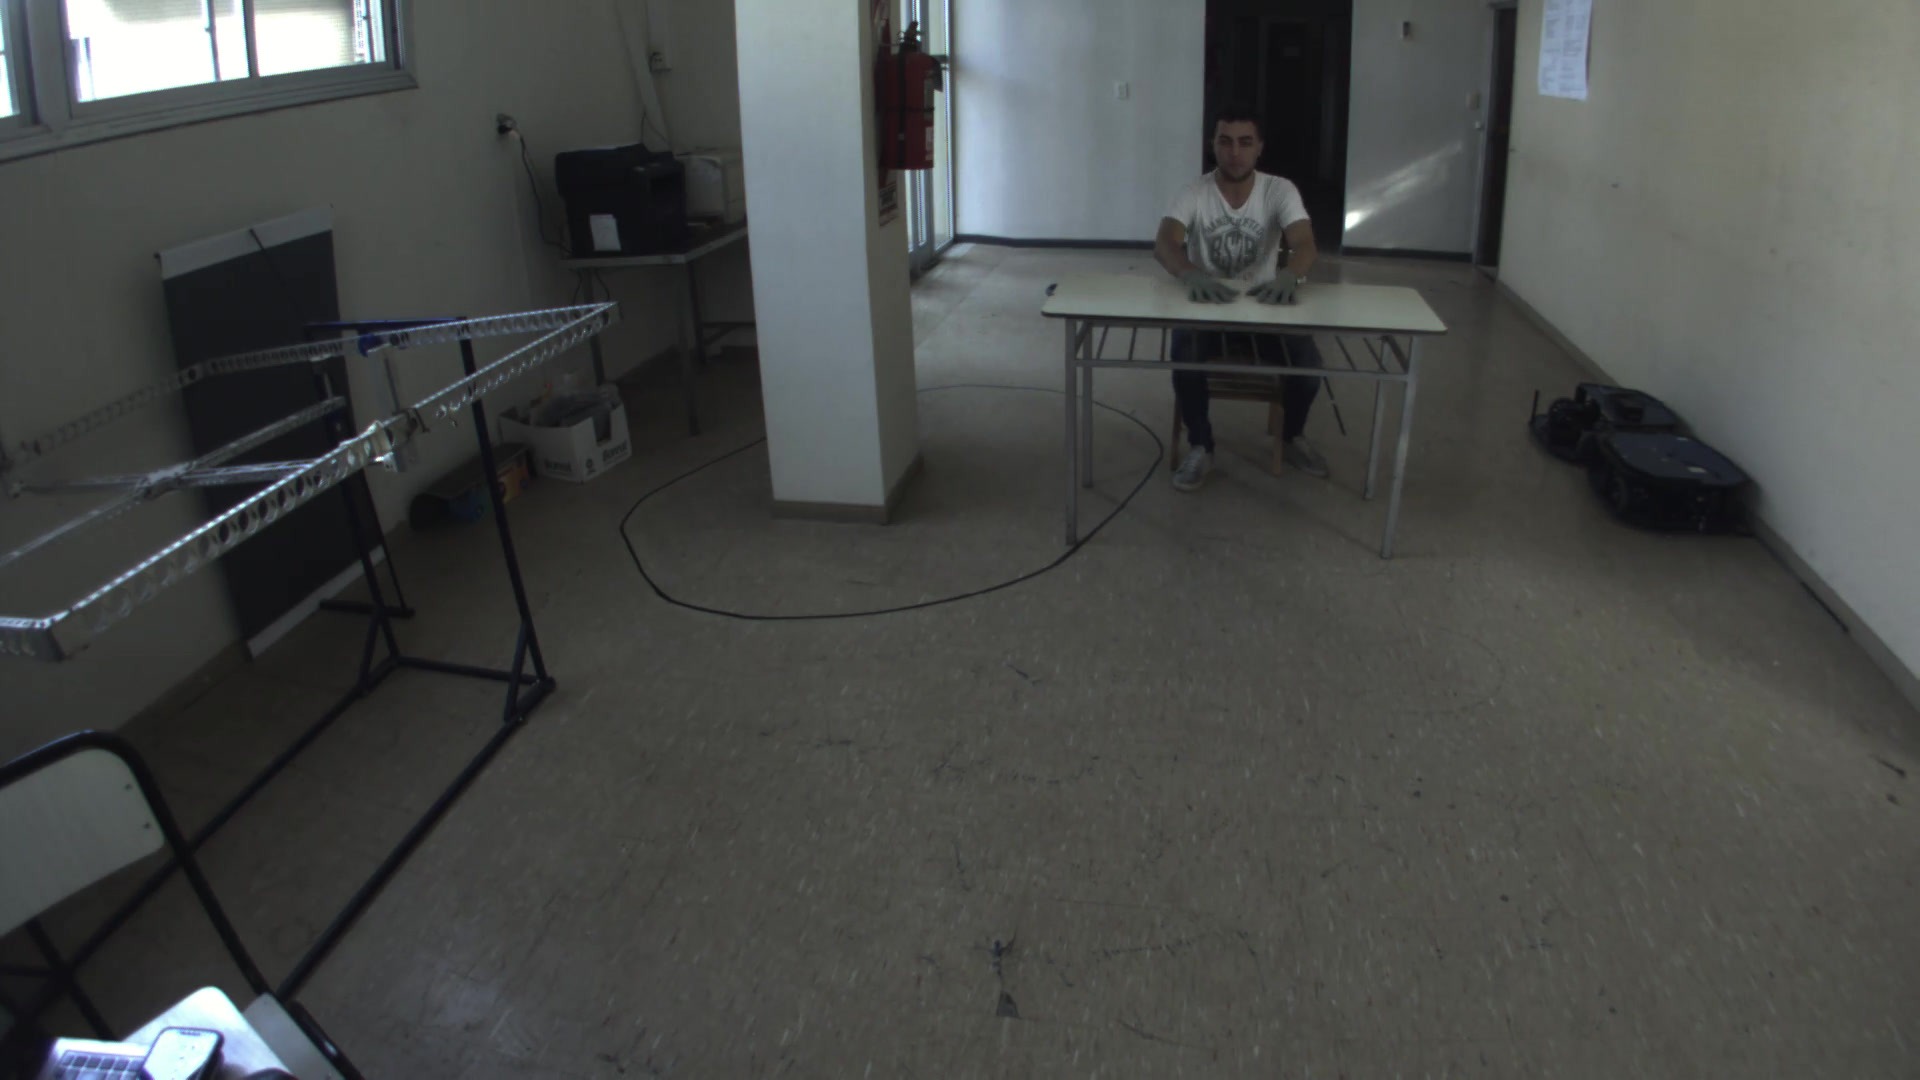hand: (1185, 264, 1238, 309), (1245, 266, 1298, 310)
